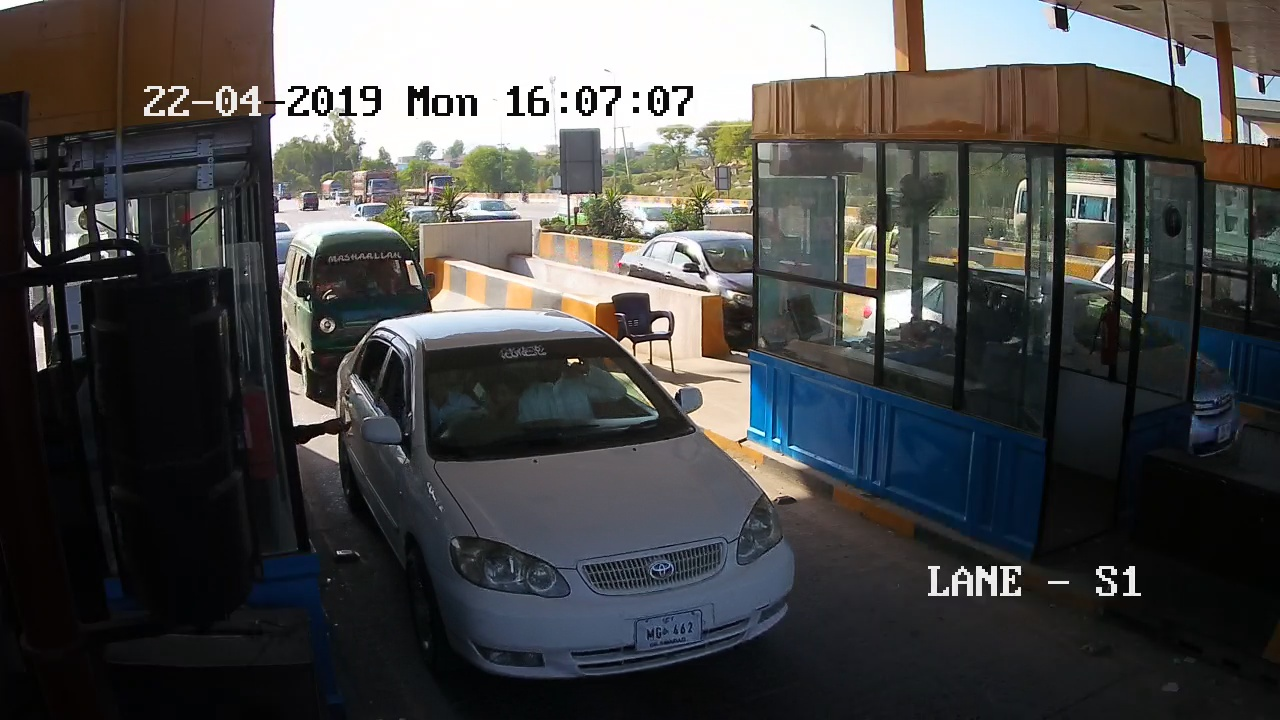Number Plate (Car): (633, 614, 701, 649)
